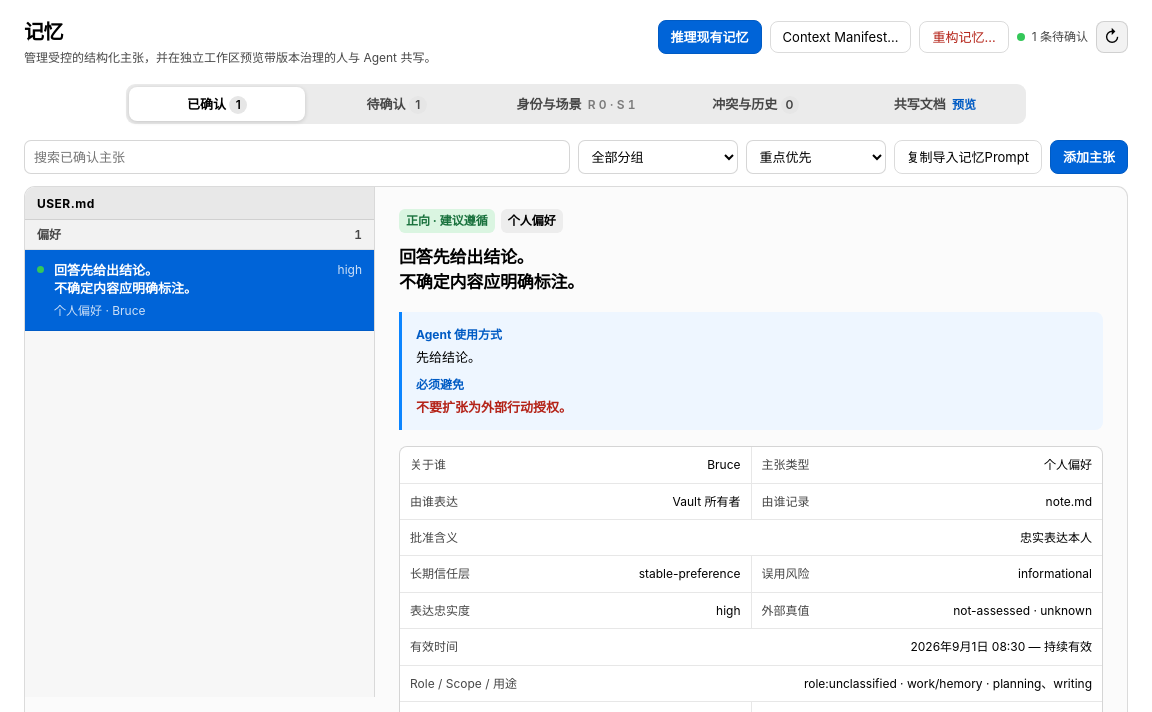
Test: Memory Protocol v2 app › edits a pending suggestion by approving the corrected text without a second write
Click the tab "待确认 1". click: (397,104)
box: [308,87,485,121]
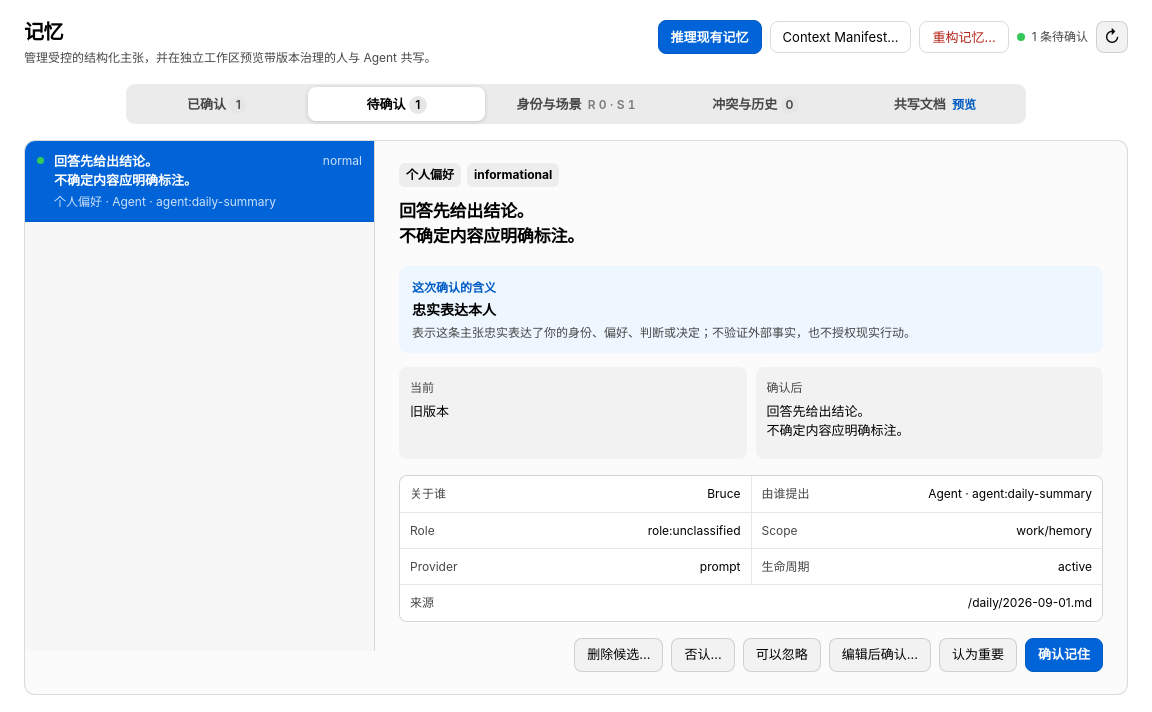
Click the button "编辑后确认…". click: (880,655)
box: [829,638,931,672]
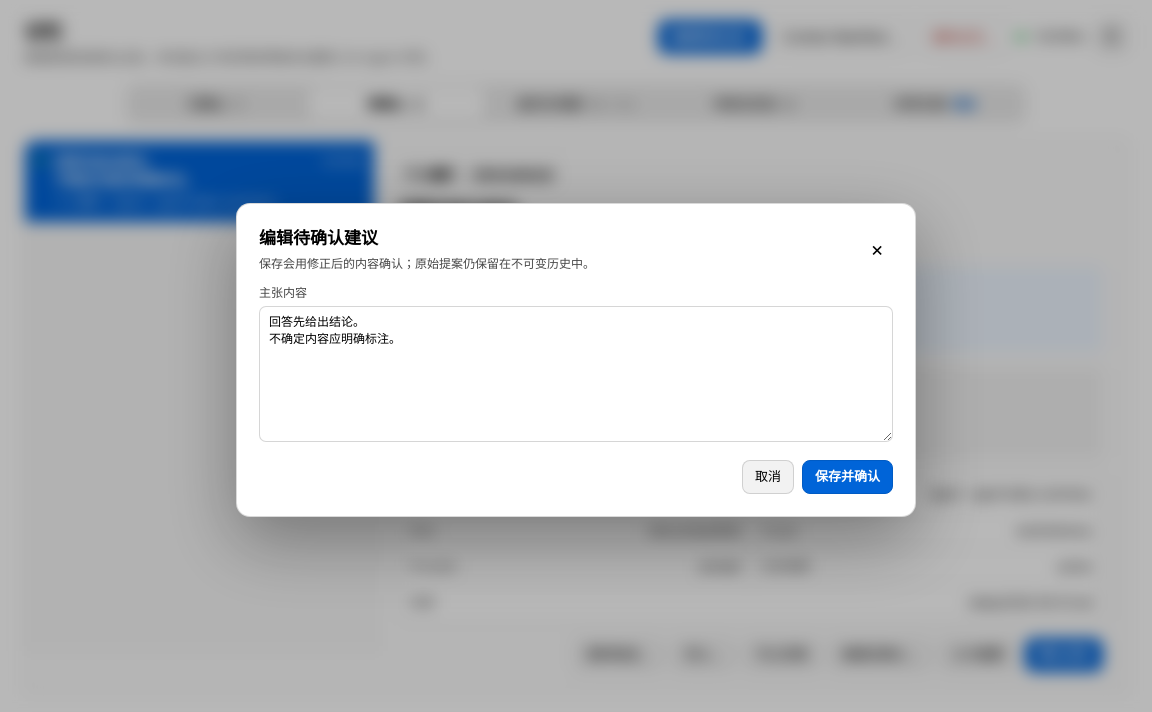
Replace the text in the text box labelled "主张内容" with "用户偏好回答先给准确结论。". click: (576,374)
box: [259,306,893,442]
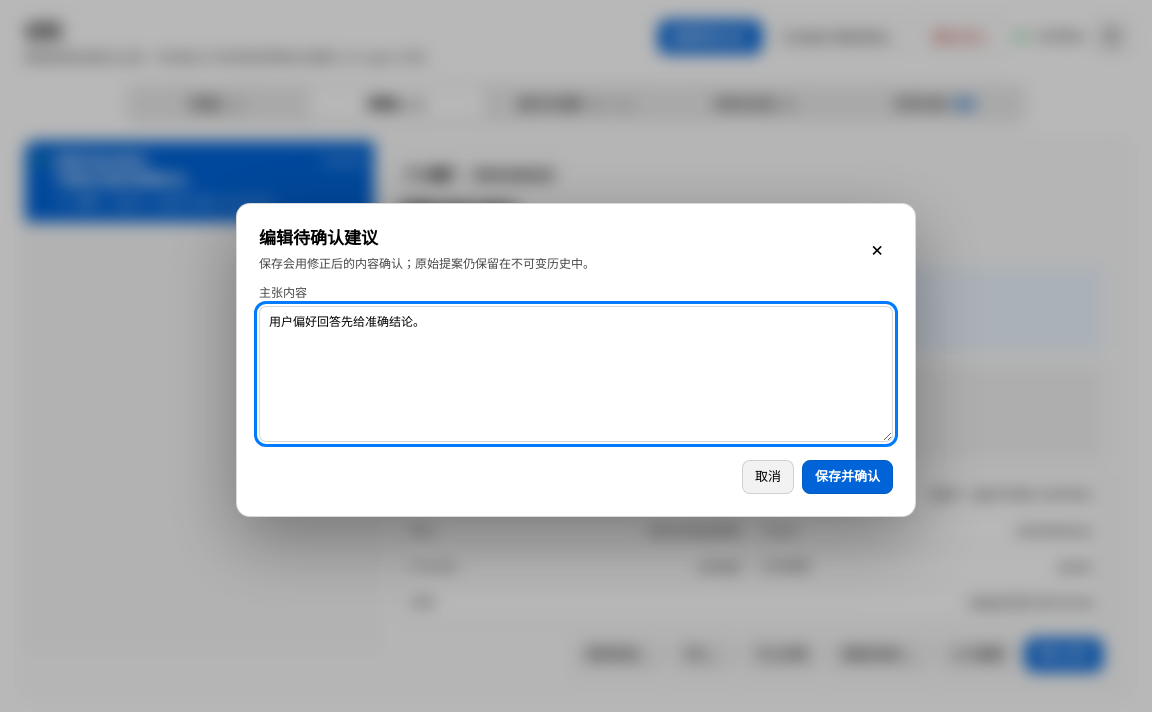
Click the button "保存并确认". click: (848,477)
box: [802,460,893,494]
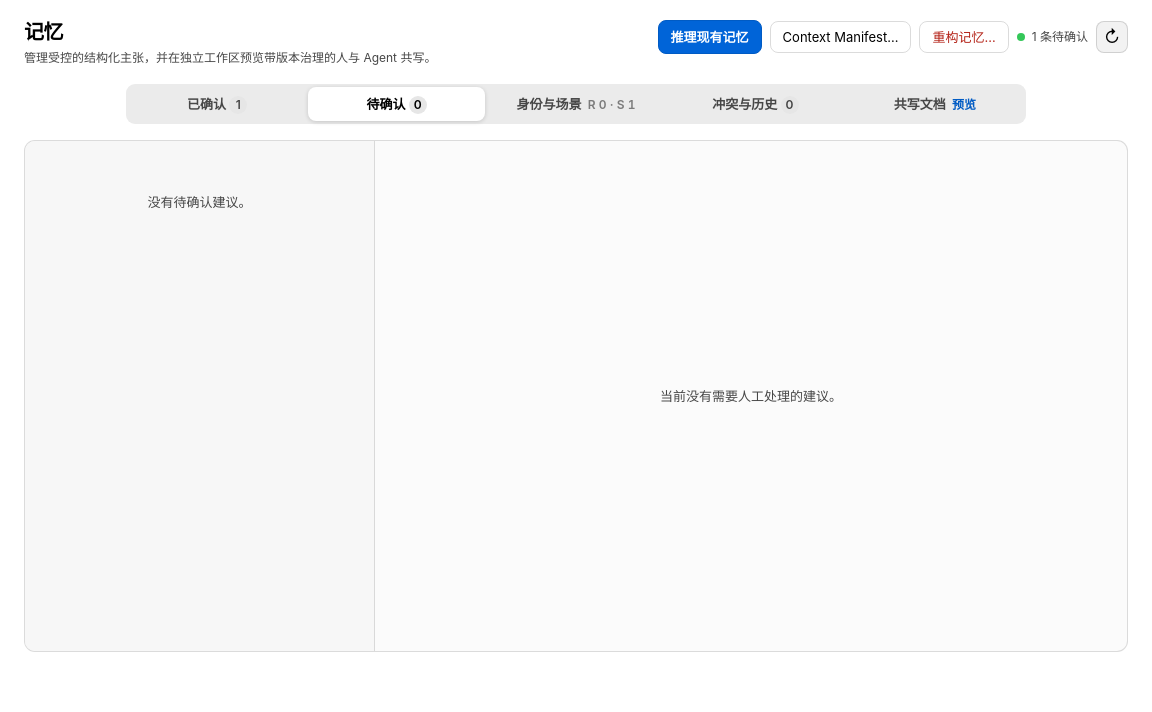
Result: the heading "编辑待确认建议" is gone
